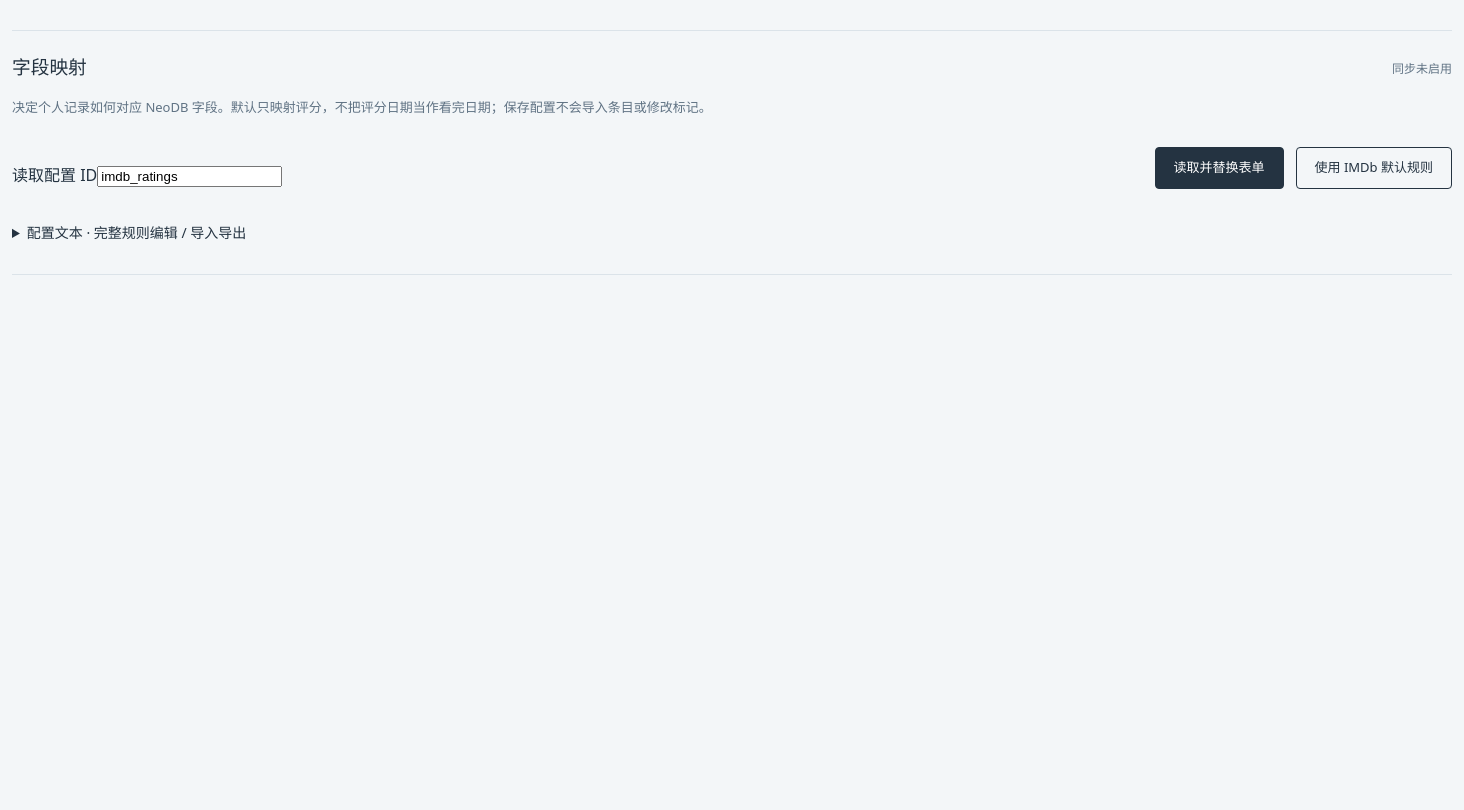
exports through Core and does not save merely by converting a document
Click the button "使用 IMDb 默认规则".
click(1374, 168)  # box [1296,147,1452,189]
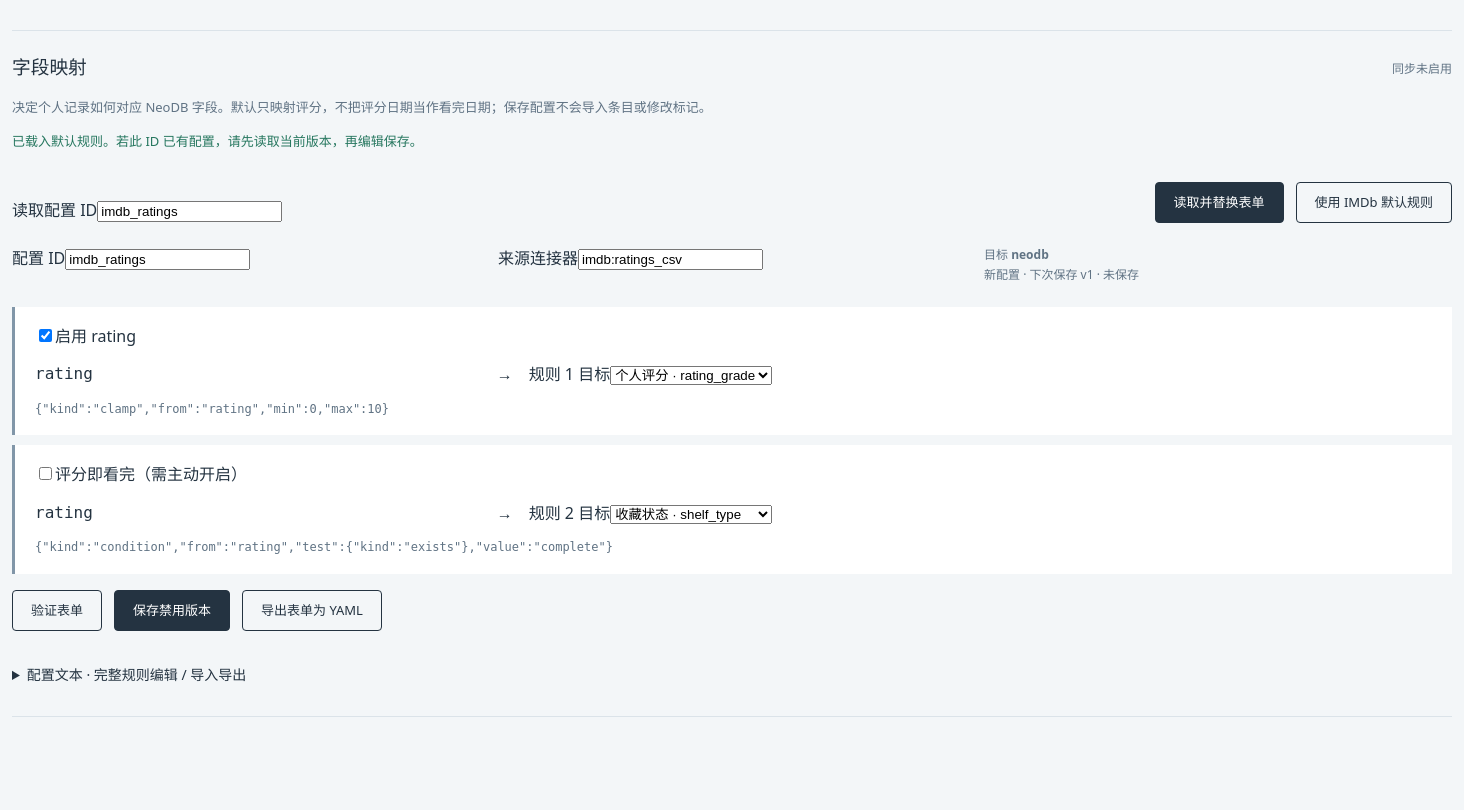
Click the button "导出表单为 YAML".
click(312, 611)  # box [242,590,382,631]
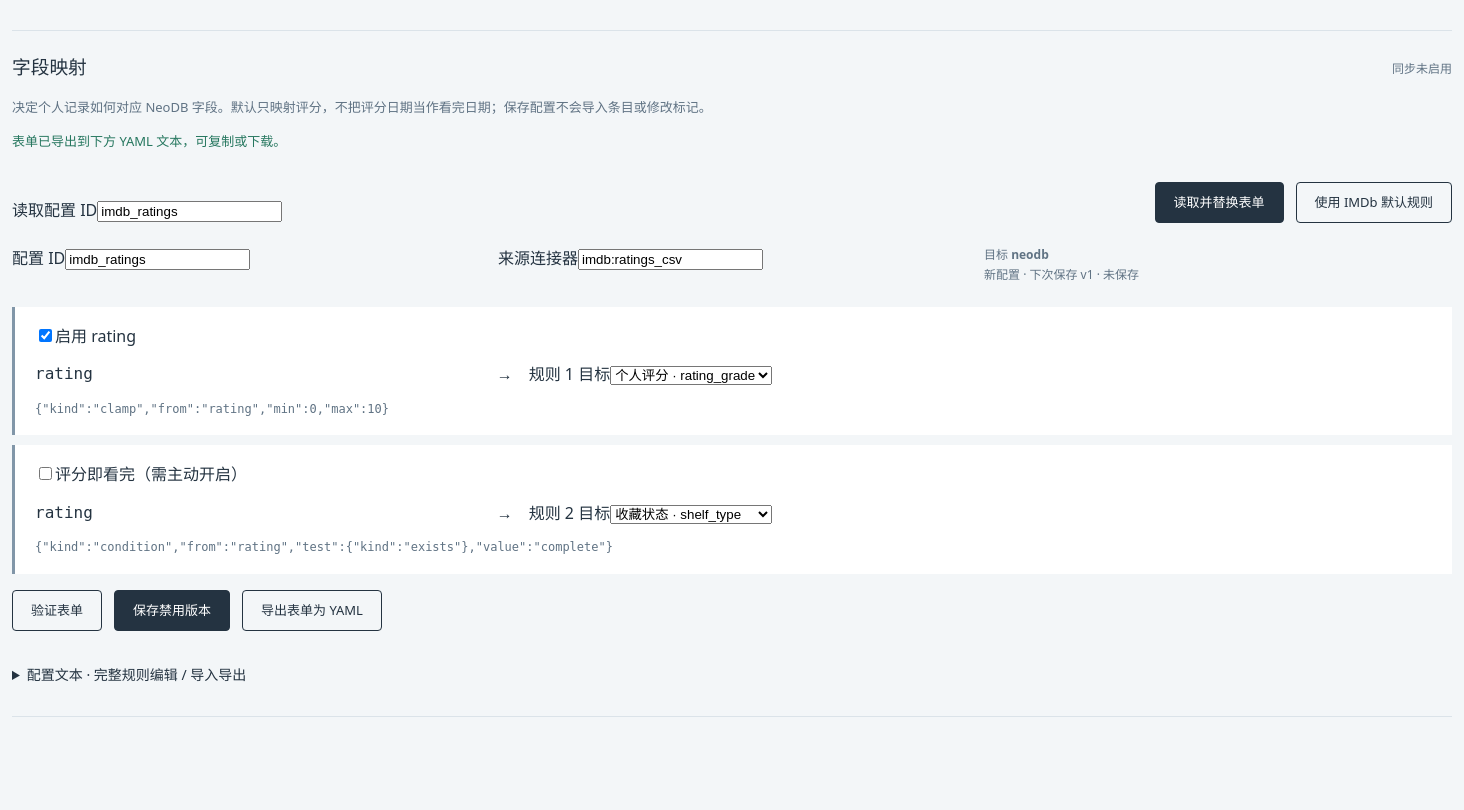
Check: the text "表单已导出到下方 YAML 文本，可复制或下载。" is shown, box [12,132,286,150]
